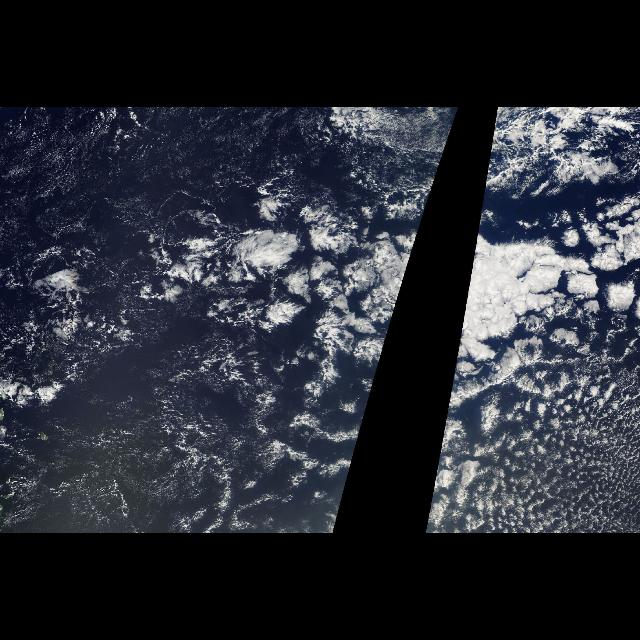Flower: (192, 195, 428, 381), (451, 190, 639, 382)
Sugar: (1, 108, 256, 236), (5, 421, 234, 534), (514, 383, 640, 533)
